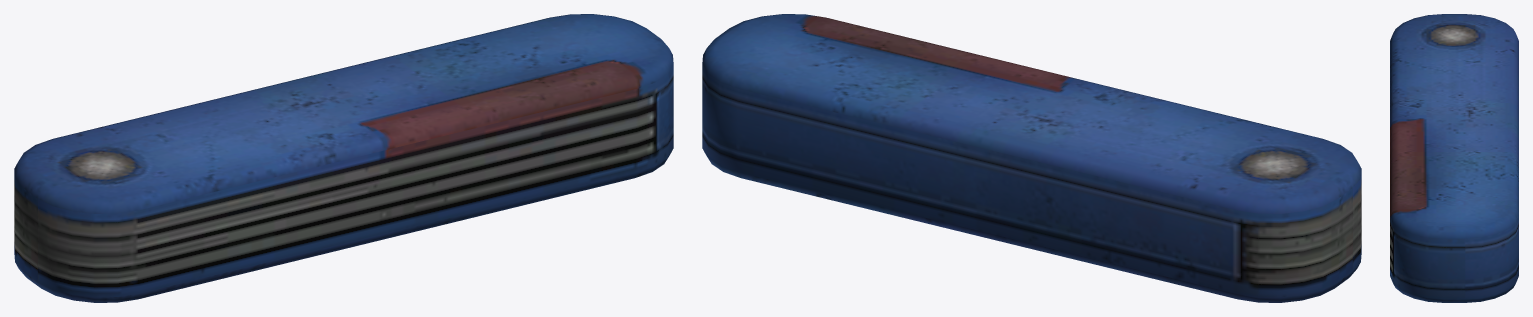
The model's file is pocketknife.dae.
3 views of the same model, side by side, from view 1: azimuth 30°, elevation 25°; view 2: azimuth 150°, elevation 25°; view 3: azimuth 270°, elevation 25° (orthographic). The views are drawn at different scales.
Parts seen in each view (by area): view 1: pocketknife; view 2: pocketknife; view 3: pocketknife.
Part boxes in pixels (<box>): pocketknife: <box>14,14,673,302</box>; pocketknife: <box>702,14,1361,302</box>; pocketknife: <box>1390,14,1518,302</box>.
Size of the model in its own units: 19.8 by 3.14 by 4.88.
